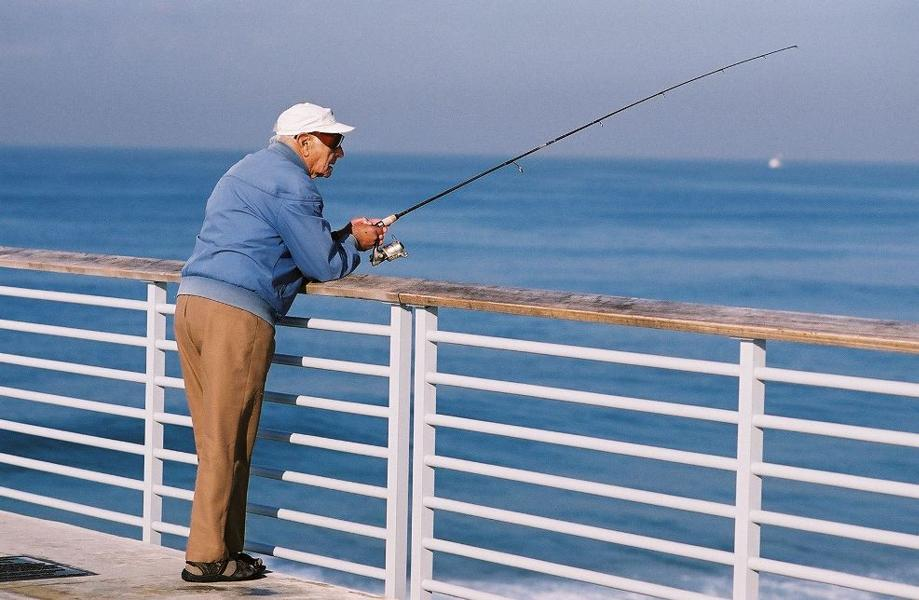person: (175, 103, 391, 584)
